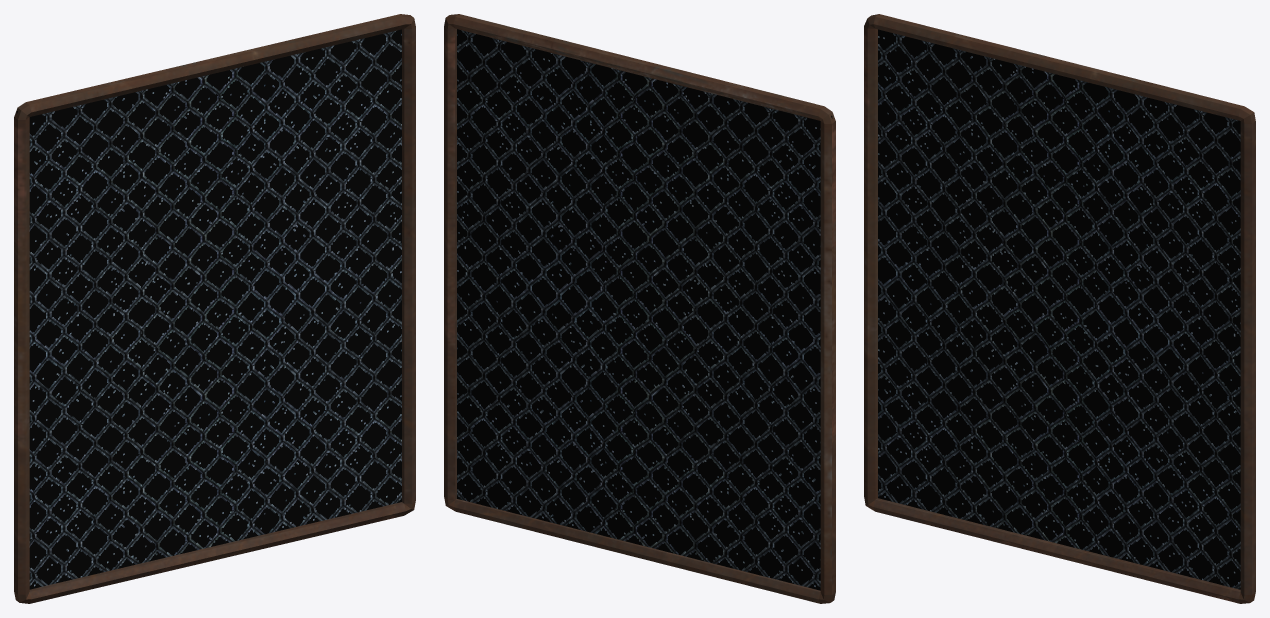
Rendered from gate.fbx.
3 renders of one model, left to right at view 1: azimuth 30°, elevation 25°; view 2: azimuth 150°, elevation 25°; view 3: azimuth 330°, elevation 25°, orthographic.
Visible parts, largest first — view 1: Body; view 2: Body; view 3: Body.
Boxes of the visible parts, <box> form: Body: <box>14,14,415,603</box>; Body: <box>444,14,835,603</box>; Body: <box>864,14,1255,603</box>.
Size of the model in its own units: 103 by 125 by 5.04.
